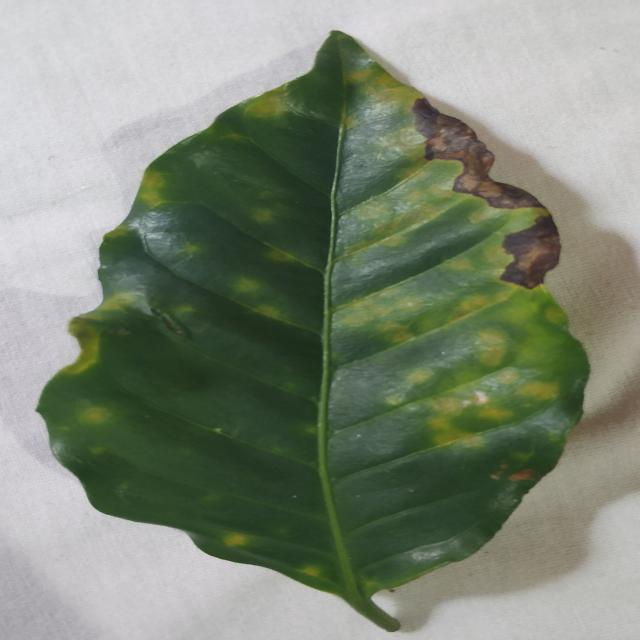Enfermedad-Roya: (35, 31, 591, 634)
